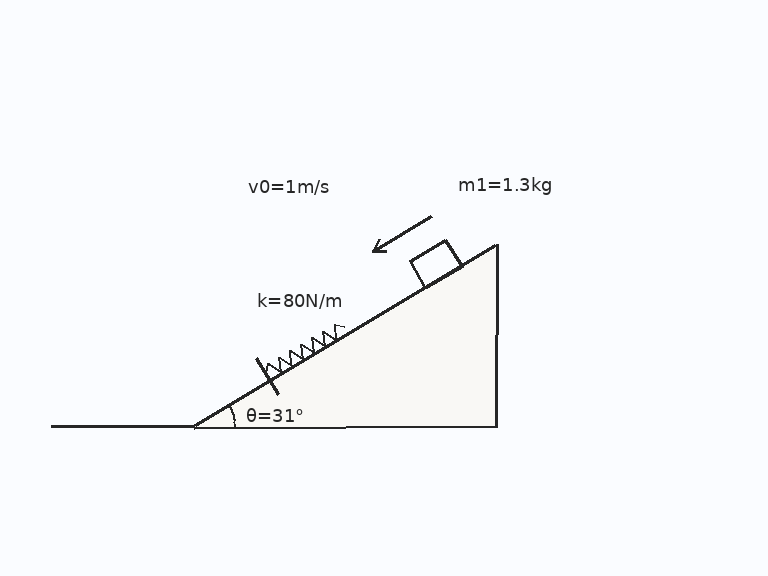block: (408, 238, 464, 289)
ramp: (193, 243, 498, 428)
spring: (264, 321, 346, 375)
